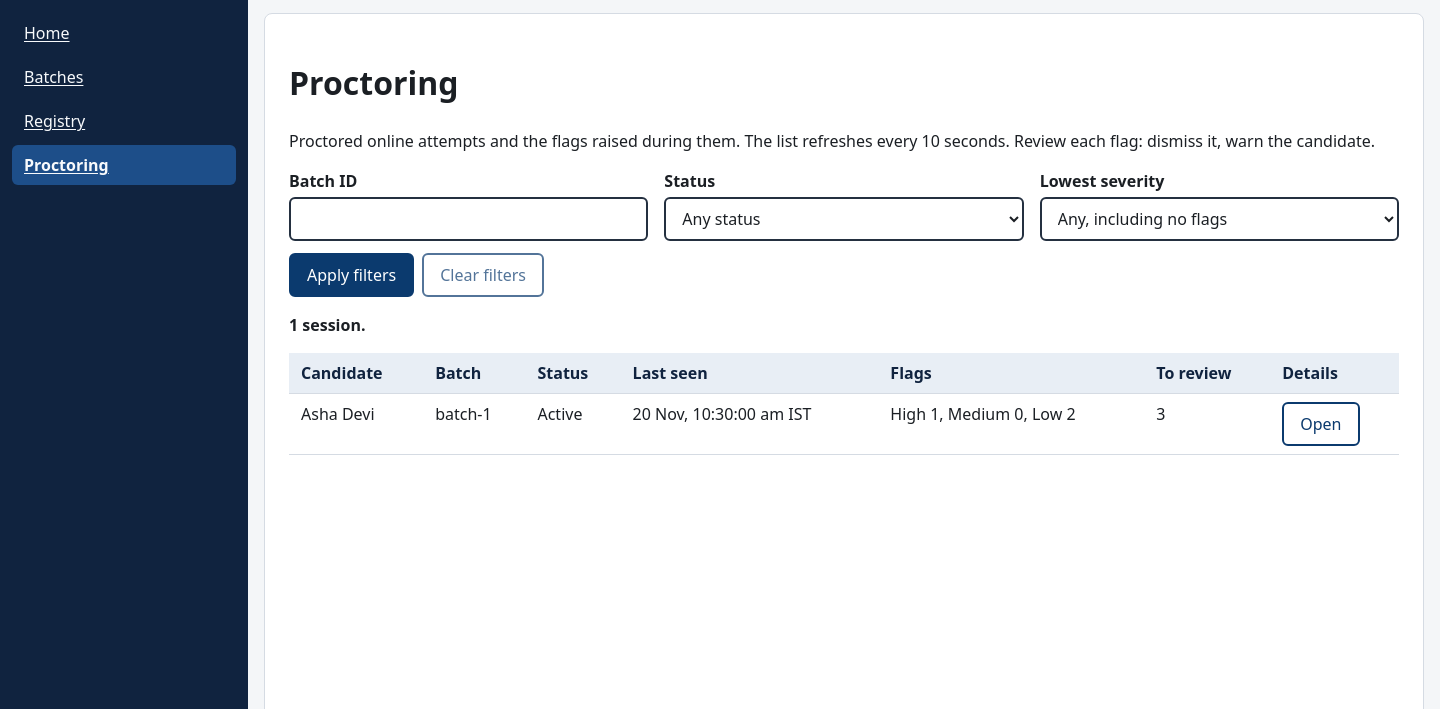
Scenario: shows what the server saved next to the photo, and says so when a flag has no image
Click the button with aria-label "Open session of Asha Devi" at [1321, 424], box x1=1282 y1=402 x2=1360 y2=446
(page scrolled)
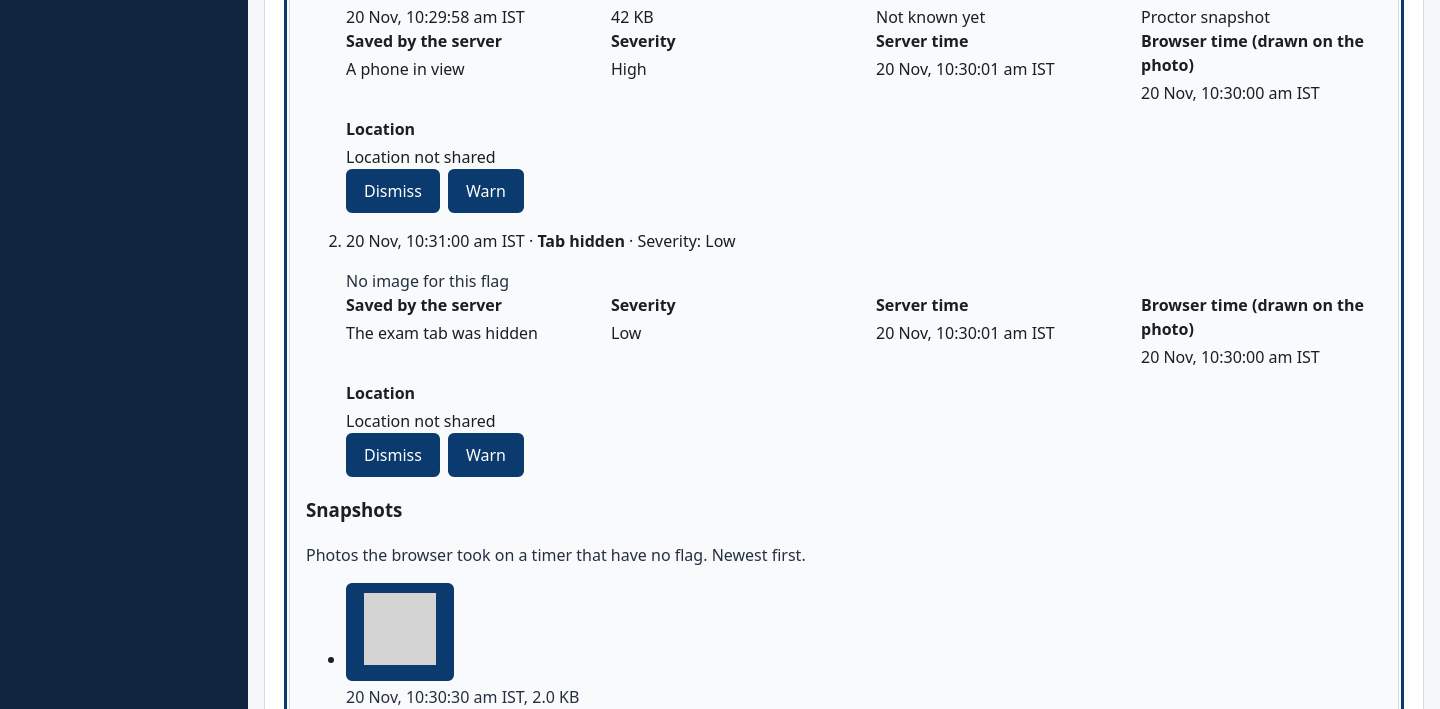
Expected: the text "A phone in view" is shown, x1=346 y1=58 x2=465 y2=80
Expected: the text "Server time" below "42 KB" is shown, x1=876 y1=30 x2=968 y2=52
Expected: the text "Browser time (drawn on the photo)" in the row of "A phone in view" is shown, x1=1141 y1=30 x2=1364 y2=76
